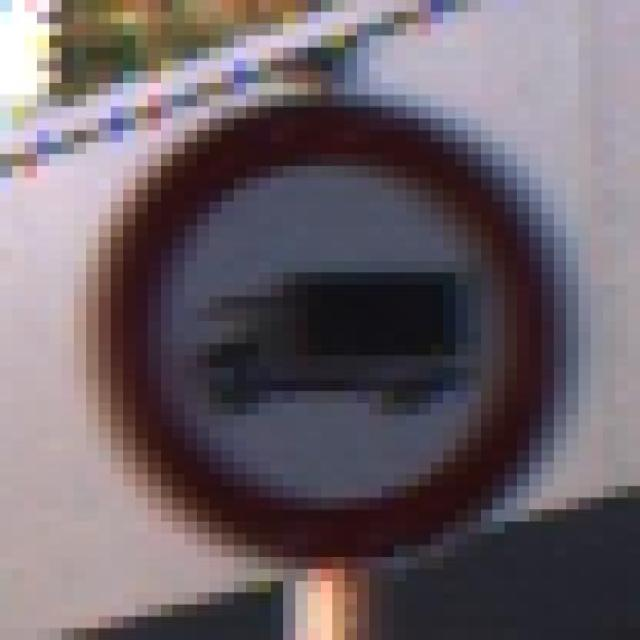Truck traffic is prohibited: (68, 37, 609, 606)
